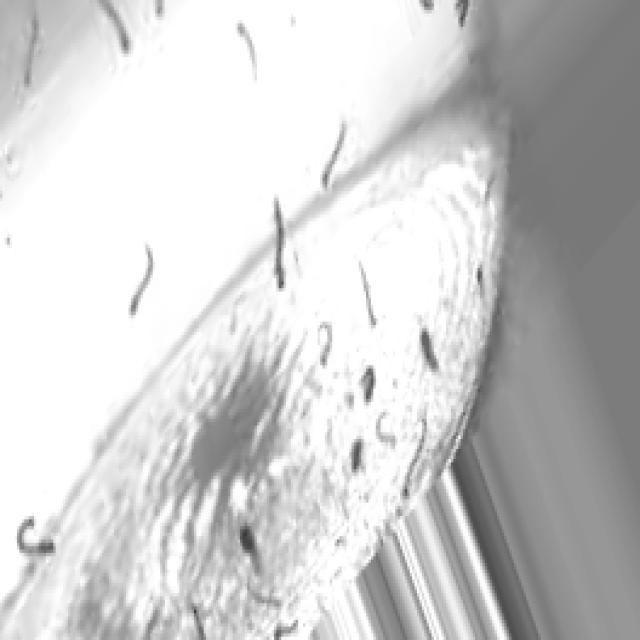larvas: (404, 418, 430, 499), (270, 196, 288, 288), (323, 121, 348, 187), (131, 246, 154, 314), (16, 517, 54, 557), (103, 0, 130, 54), (234, 24, 258, 80), (356, 258, 374, 322), (23, 14, 39, 85), (245, 584, 284, 608), (373, 414, 398, 447), (241, 524, 258, 568), (417, 330, 435, 370), (318, 319, 331, 365), (273, 616, 297, 640), (192, 606, 207, 640), (348, 438, 361, 472), (362, 367, 374, 399), (451, 0, 468, 20)
